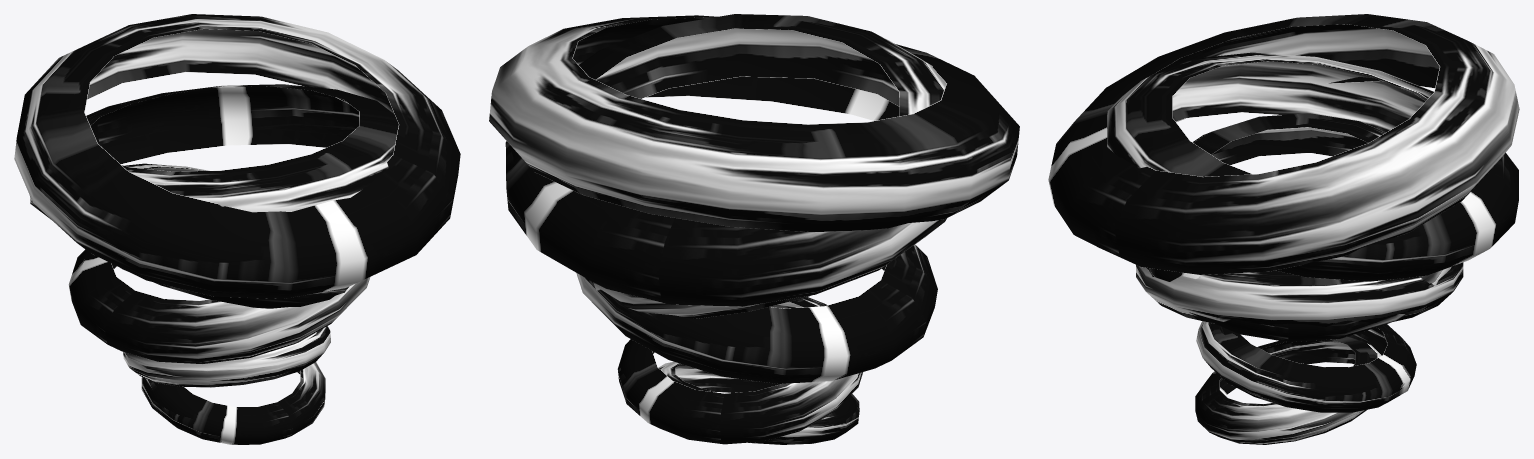
The picture shows the model from 3 angles, left to right: view 1: azimuth 30°, elevation 25°; view 2: azimuth 150°, elevation 25°; view 3: azimuth 270°, elevation 25°; orthographic projection. The views are drawn at different scales.
Visible parts, largest first — view 1: Cylinder009; view 2: Cylinder009; view 3: Cylinder009.
Part boxes in pixels (left/top/right/bottom): Cylinder009: left=14, top=14, right=460, bottom=444; Cylinder009: left=489, top=14, right=1019, bottom=444; Cylinder009: left=1048, top=14, right=1519, bottom=444.
Size of the model in its own units: 149 by 148 by 121.
